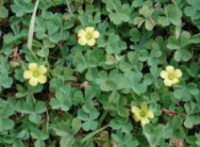oxalis: (5, 16, 198, 137)
